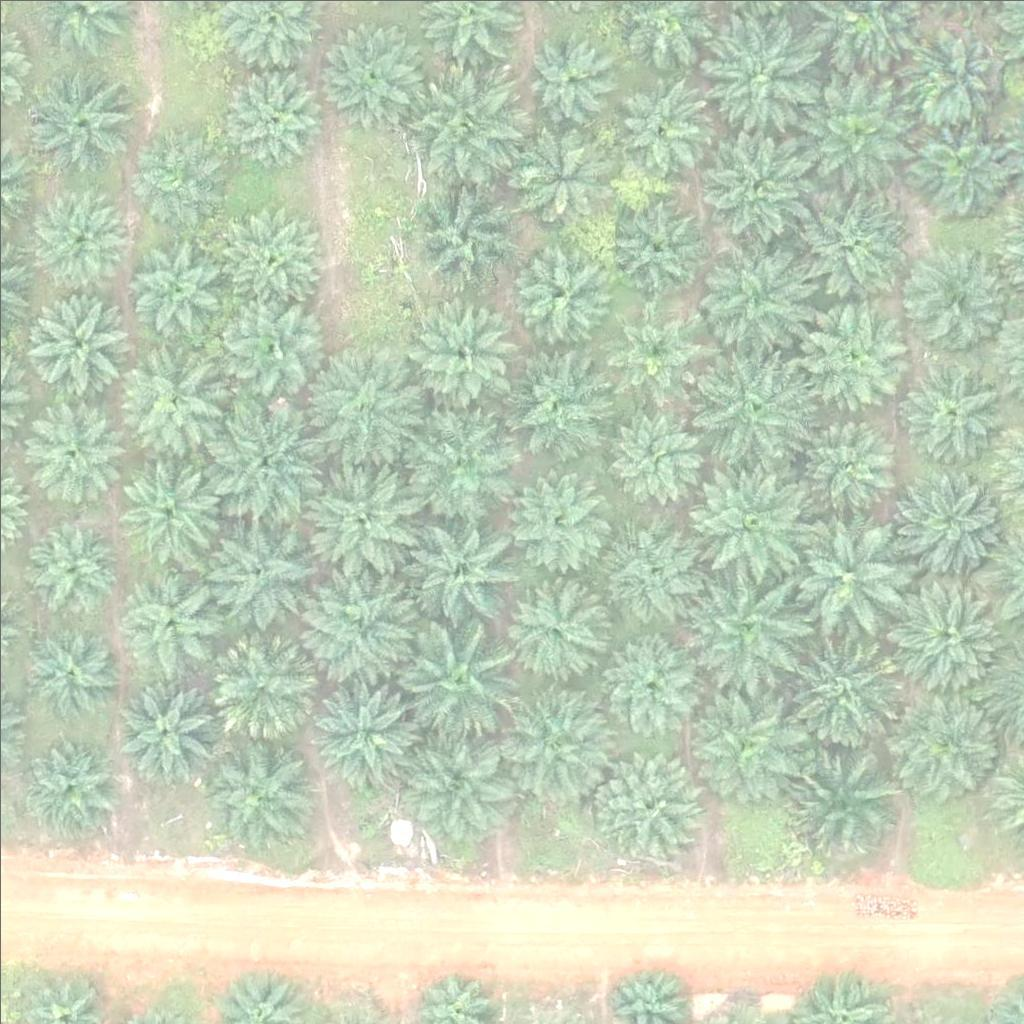Kelapa_Sawit: (315, 17, 428, 131), (202, 739, 315, 853), (304, 675, 417, 789), (304, 466, 417, 580), (405, 406, 518, 520), (688, 465, 801, 579), (791, 521, 904, 635), (119, 349, 232, 462), (210, 412, 323, 525), (206, 626, 319, 739), (308, 562, 421, 675), (311, 348, 424, 461), (398, 625, 511, 738), (500, 351, 613, 464), (408, 55, 521, 168), (591, 744, 704, 857), (693, 683, 806, 796), (708, 7, 821, 120), (801, 75, 914, 188), (794, 191, 907, 304), (802, 302, 915, 415), (890, 687, 1003, 800), (889, 583, 1002, 696), (896, 351, 1009, 464), (901, 243, 1014, 356), (904, 109, 1017, 222), (118, 559, 230, 673), (204, 515, 316, 629), (495, 686, 607, 800), (694, 236, 806, 350), (399, 287, 511, 400), (405, 512, 517, 625), (401, 724, 513, 837), (411, 184, 523, 297), (601, 516, 713, 629), (691, 568, 803, 681), (695, 348, 807, 461), (698, 131, 810, 244), (782, 747, 894, 860), (789, 636, 901, 749), (896, 458, 1008, 571), (27, 72, 127, 173), (33, 186, 133, 287), (26, 293, 126, 394), (20, 734, 120, 835), (117, 676, 217, 777), (119, 456, 219, 557), (127, 127, 227, 228), (217, 62, 317, 163), (222, 299, 322, 400), (505, 583, 605, 684), (505, 237, 605, 338), (509, 126, 609, 227), (602, 202, 702, 303), (608, 410, 708, 511), (603, 642, 703, 743), (901, 24, 1001, 125), (19, 400, 119, 500), (22, 516, 122, 616), (19, 621, 119, 721), (126, 237, 226, 337), (218, 209, 318, 309), (506, 473, 606, 573), (609, 79, 709, 179), (603, 304, 703, 404), (799, 415, 899, 515), (528, 33, 615, 121)
